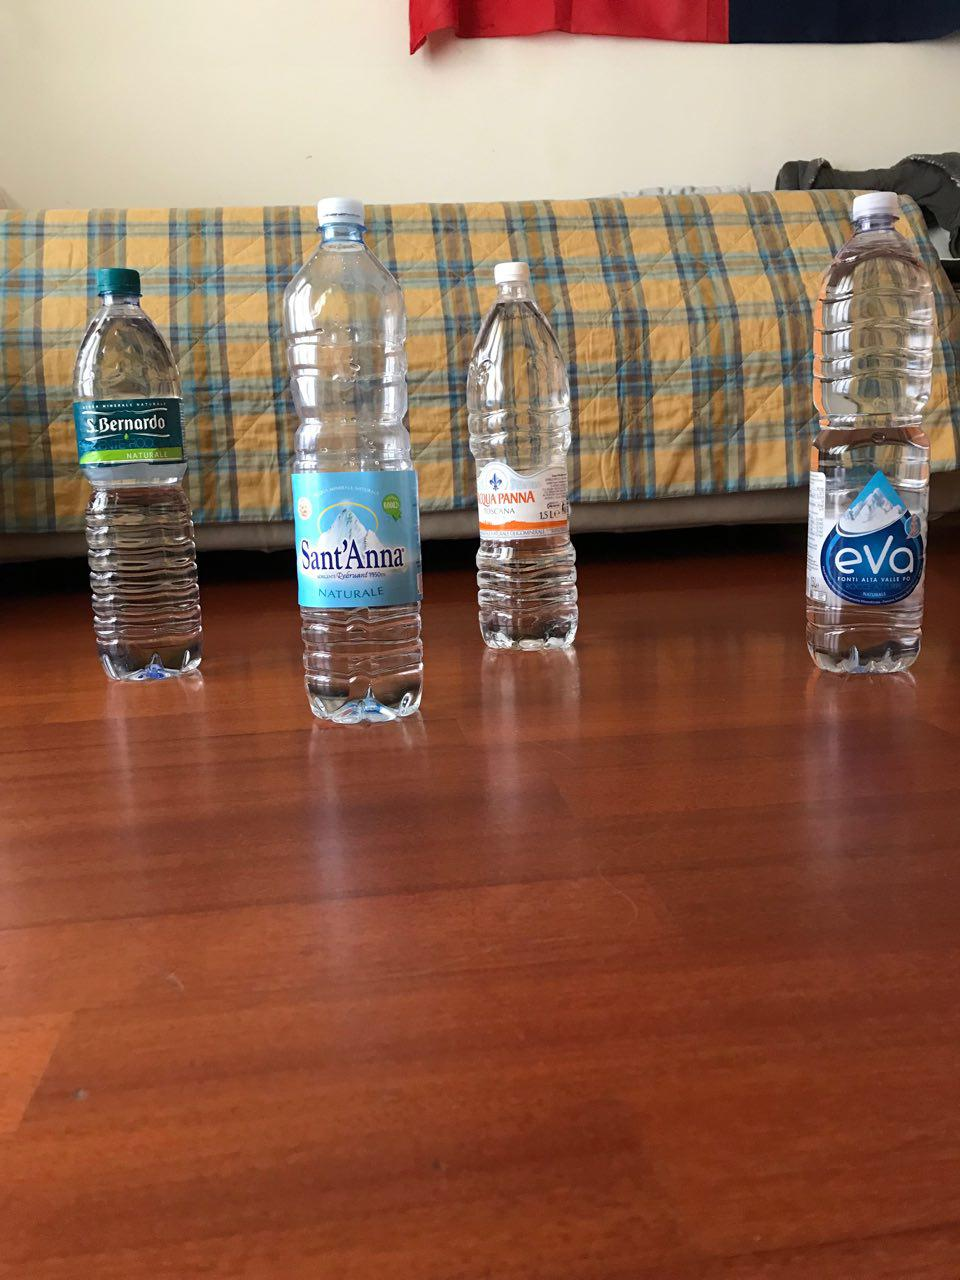san_bernardo: (71, 267, 204, 682)
